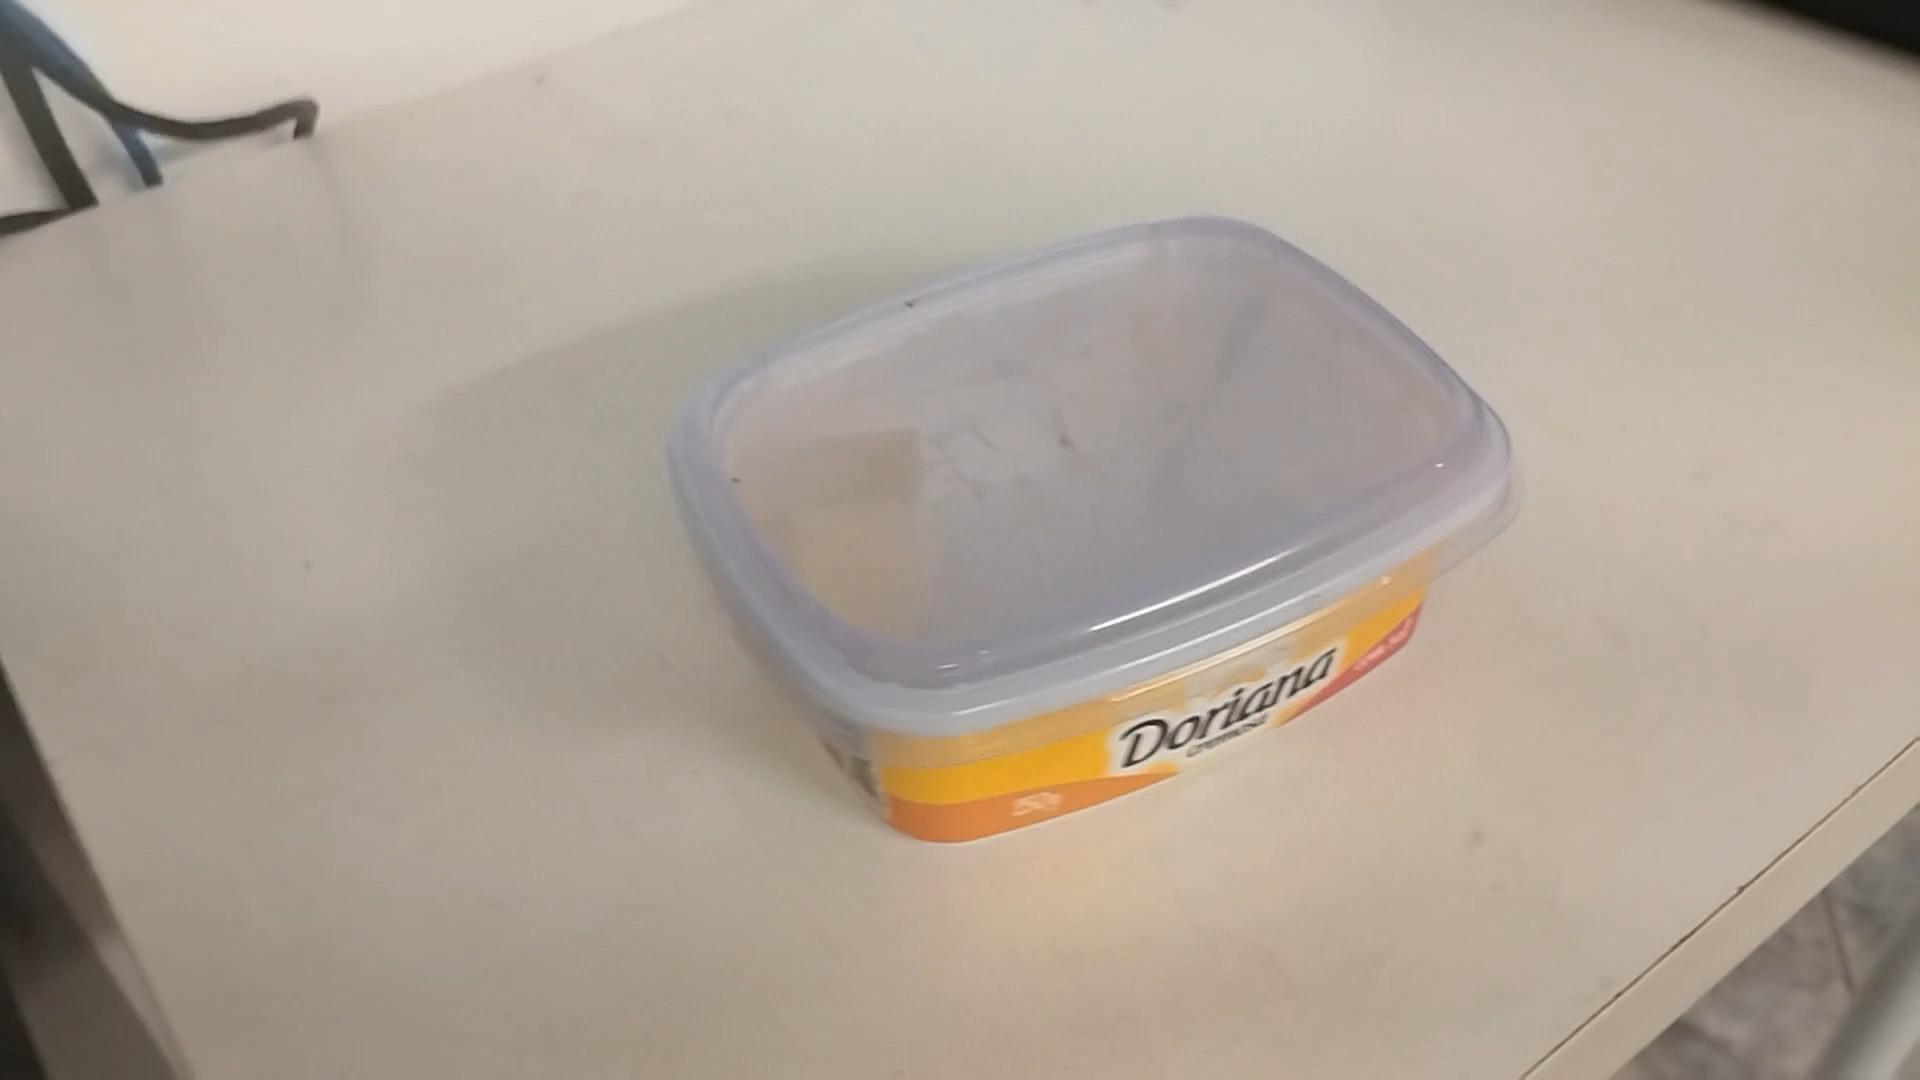butter: (667, 222, 1513, 844)
